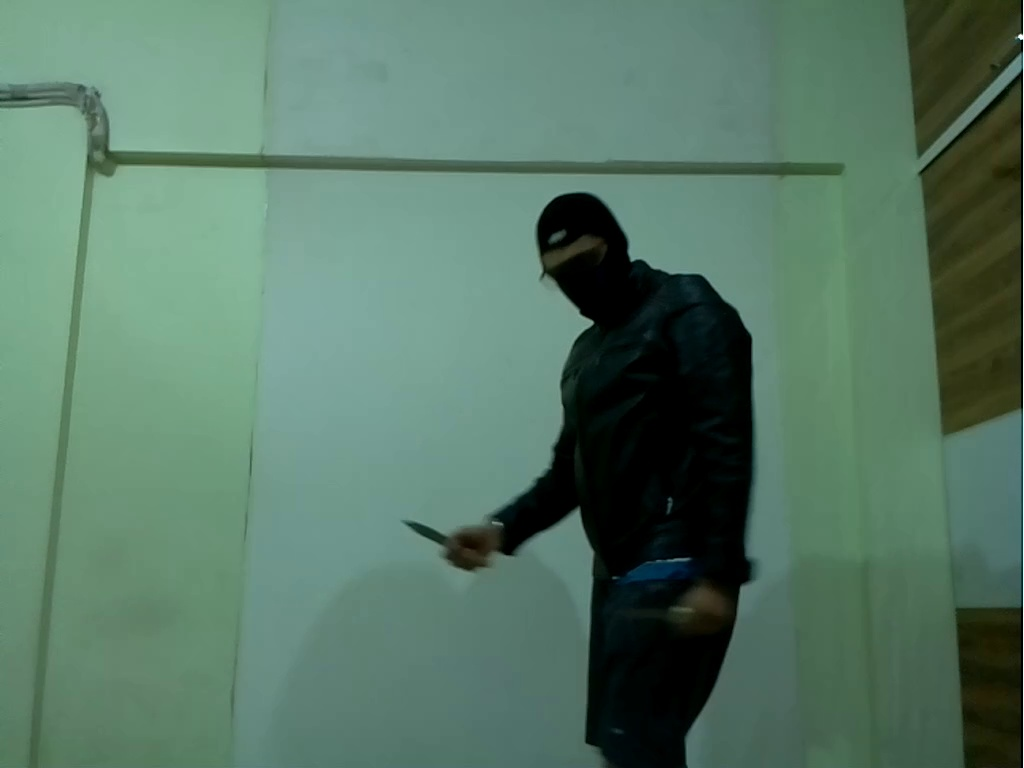knife: (390, 517, 462, 554)
